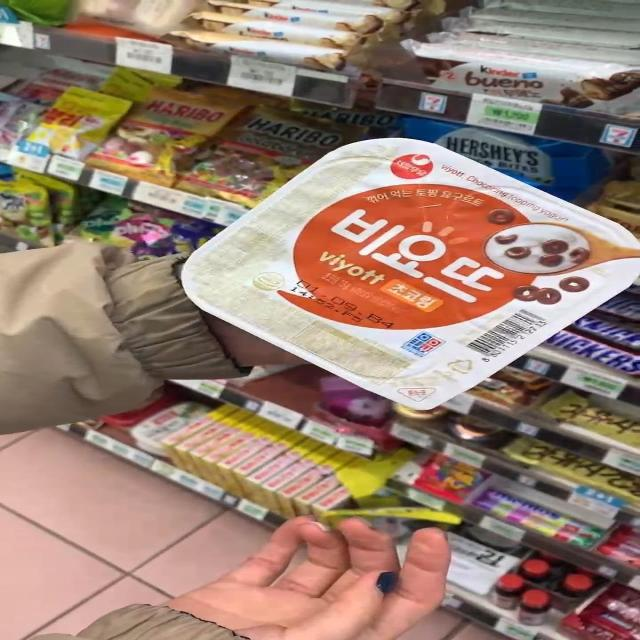bYott: (204, 156, 624, 403)
